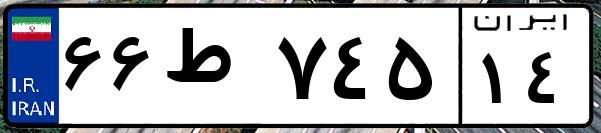1: (475, 38, 525, 113)
4: (330, 28, 385, 110), (525, 38, 570, 115)
5: (385, 28, 445, 110)
6: (57, 26, 110, 100), (110, 28, 158, 98)
7: (270, 28, 330, 110)
ط: (158, 20, 270, 120)
